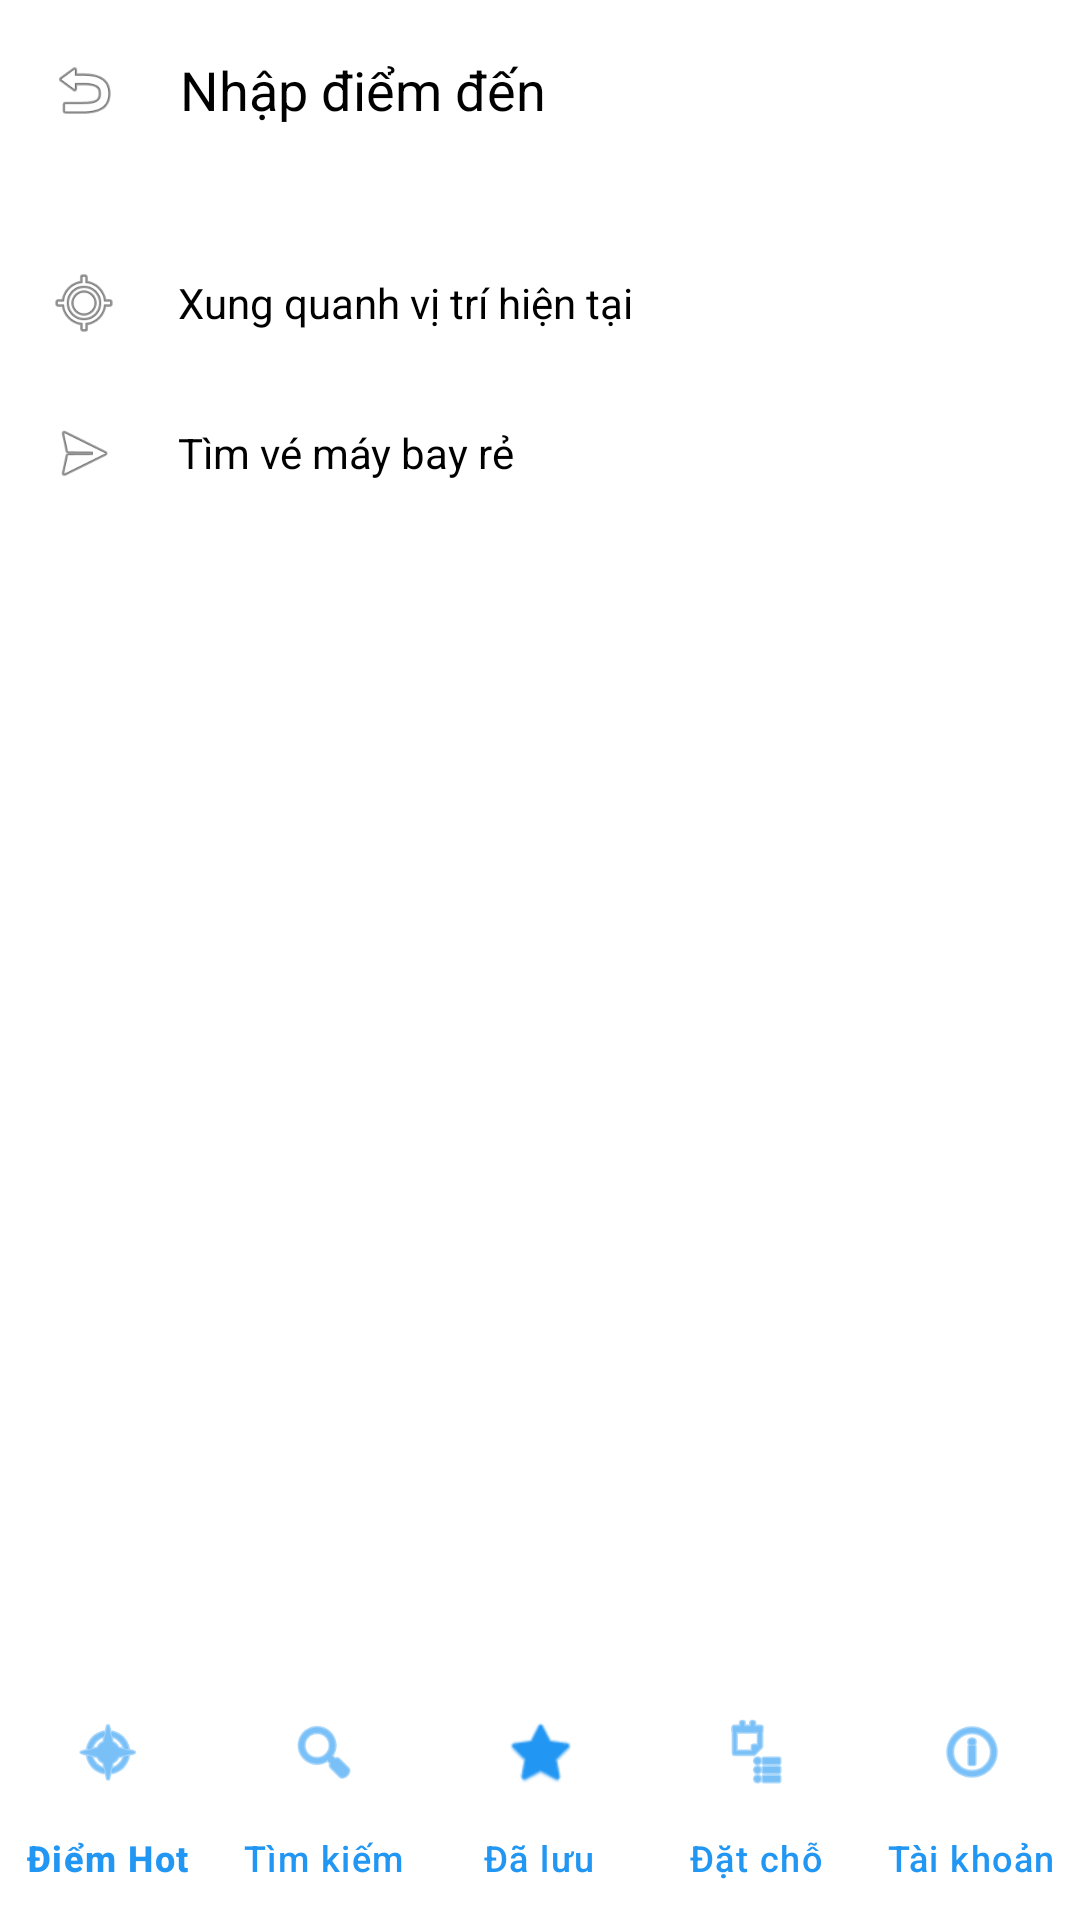

Named icons in this screenshot (1080 x 1920) and their bounding boxes, BBox(x1, y1, x2, y2):
mylocation: BBox(55, 274, 113, 332)
revert: BBox(59, 67, 111, 114)
send: BBox(61, 431, 108, 476)
